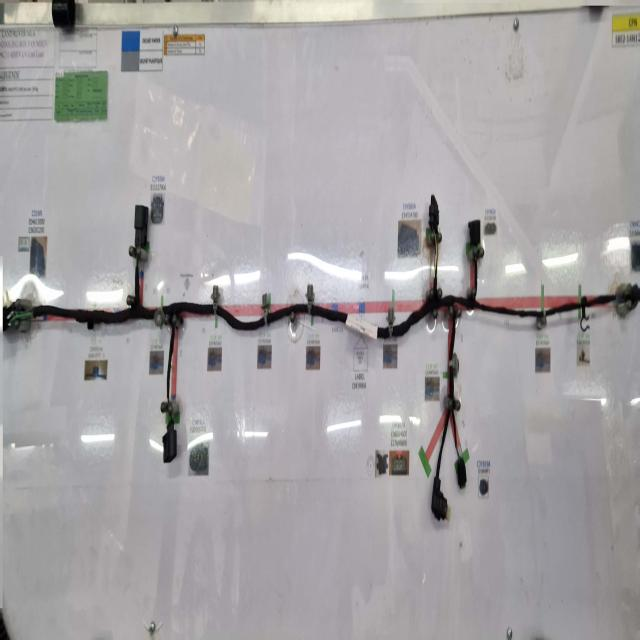Clip: (537, 295, 547, 329), (211, 285, 221, 317), (262, 291, 270, 324), (582, 296, 589, 333), (154, 308, 165, 329), (307, 281, 314, 312), (448, 356, 458, 376), (389, 305, 395, 337), (89, 309, 95, 329)
Connector: (431, 475, 449, 523), (0, 302, 25, 335), (163, 420, 178, 464), (133, 204, 146, 247), (430, 190, 440, 234), (469, 218, 480, 245), (630, 282, 640, 309), (458, 455, 466, 487)
Gape: (19, 302, 42, 322), (615, 287, 629, 307), (433, 233, 437, 280), (166, 405, 173, 430), (133, 250, 141, 270), (455, 443, 462, 462)
Info: (347, 312, 377, 339)
MHEV_N11_Cable: (32, 263, 541, 479), (546, 285, 640, 317)
